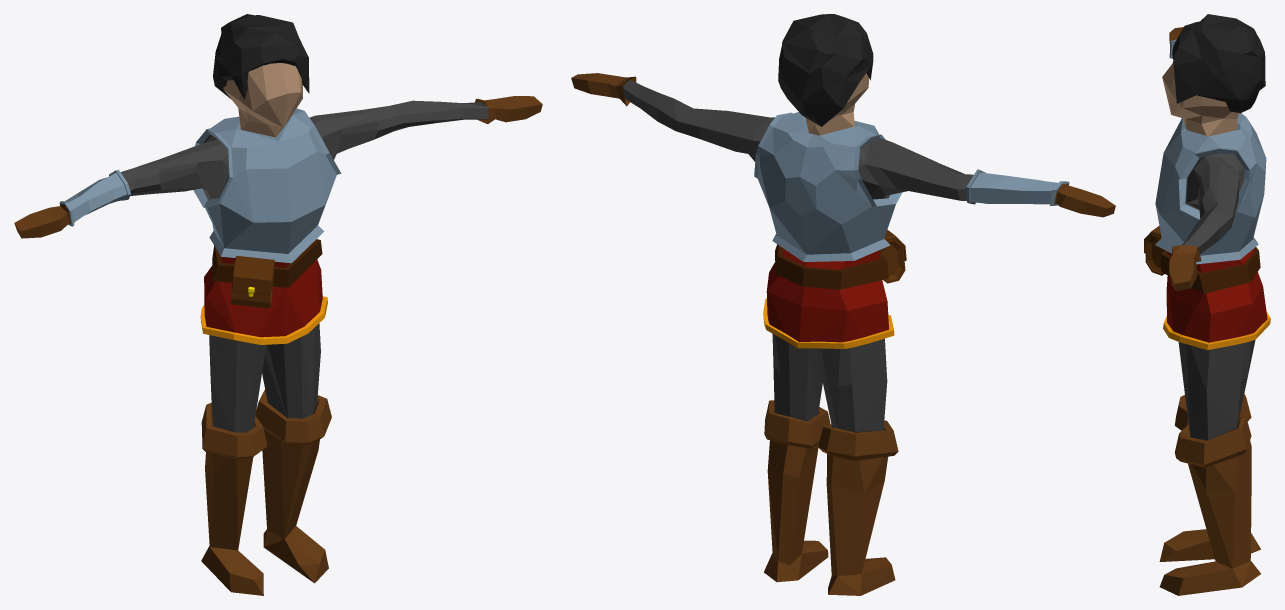
The model's file is player_model.fbx.
3 views of the same model, side by side, from view 1: azimuth 30°, elevation 25°; view 2: azimuth 150°, elevation 25°; view 3: azimuth 270°, elevation 25° (orthographic). The views are drawn at different scales.
Parts seen in each view (by area): view 1: player, bag; view 2: player, bag; view 3: player, bag.
Boxes of the visible parts, <box> form: player: <box>14,14,542,595</box>; bag: <box>231,255,274,308</box>; player: <box>571,14,1115,595</box>; bag: <box>880,230,906,283</box>; player: <box>1155,14,1270,595</box>; bag: <box>1144,226,1164,275</box>.
Bounding box in the file's own units: 1335 × 280 × 1341.
